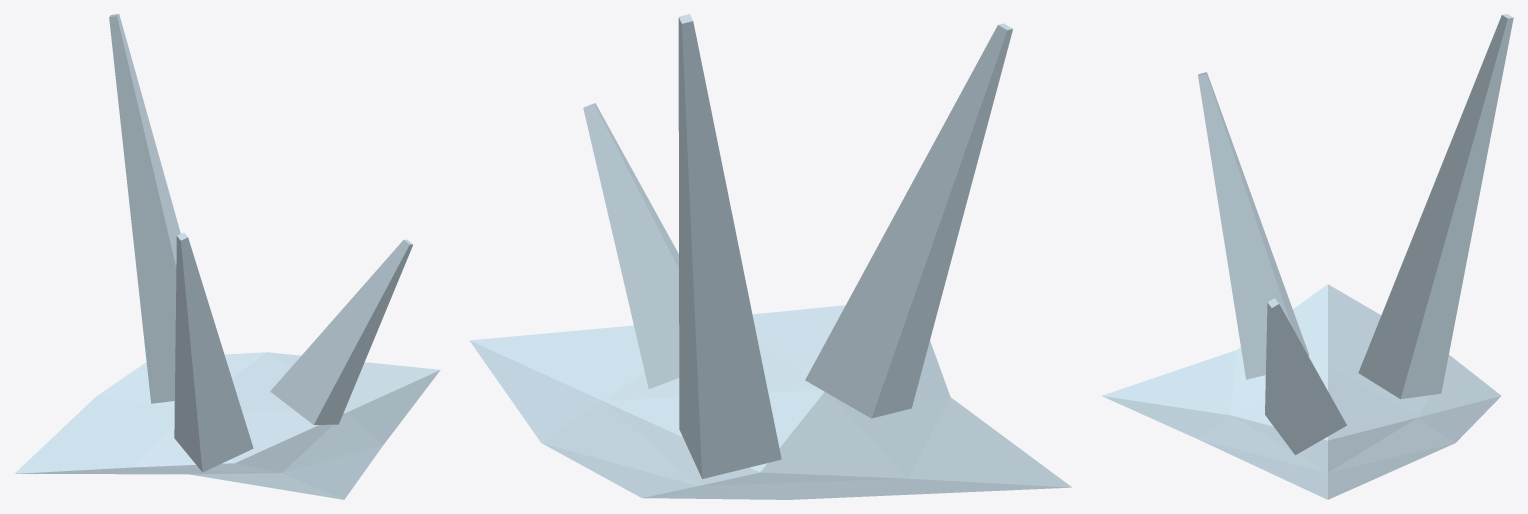
The model's file is ice_shard_v00.glb.
The picture shows the model from 3 angles, left to right: view 1: azimuth 30°, elevation 25°; view 2: azimuth 150°, elevation 25°; view 3: azimuth 270°, elevation 25°; orthographic projection. The views are drawn at different scales.
Parts seen in each view (by area): view 1: lod0; view 2: lod0; view 3: lod0.
Boxes of the visible parts, left/top/right/bottom form: lod0: left=14, top=14, right=440, bottom=499; lod0: left=469, top=14, right=1071, bottom=499; lod0: left=1101, top=14, right=1513, bottom=499.
Size of what is drawn, in the model's own units: 0.8306 by 0.733 by 0.6706.
